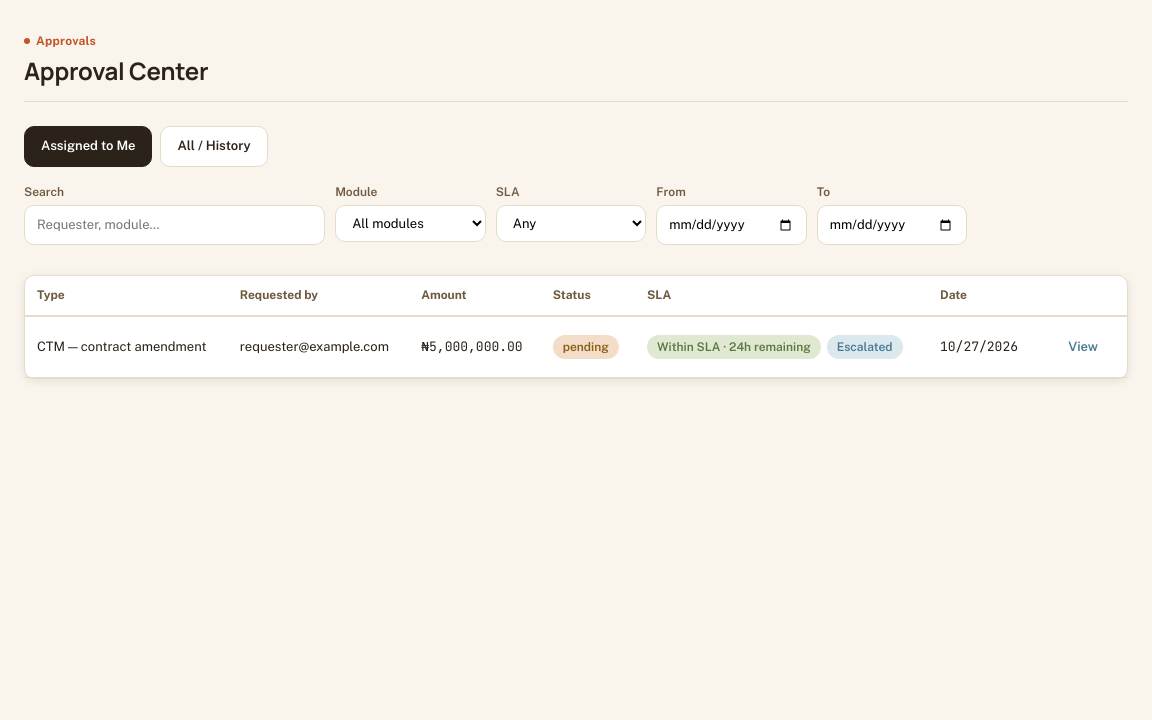
Scenario: ApprovalCenterPage › escalation › marks an already-escalated step and no longer offers Escalate
The image size is (1152, 720).
Expected: the text "requester@example.com" is shown, [228,316,409,378]
Click the button "View": (1083, 347) [1051,327,1115,367]
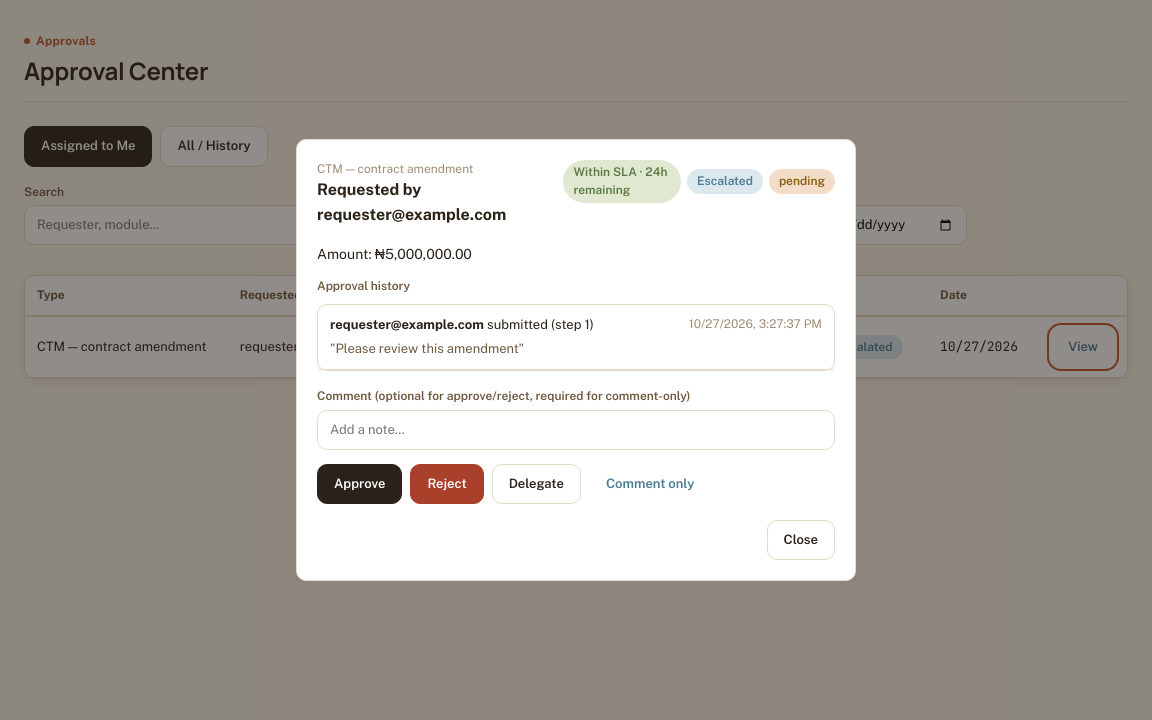
Expected: the text "Escalated" below "Status" is shown, [837,340,893,354]
Now the button "Approve" is shown, box [317,464,402,504]
